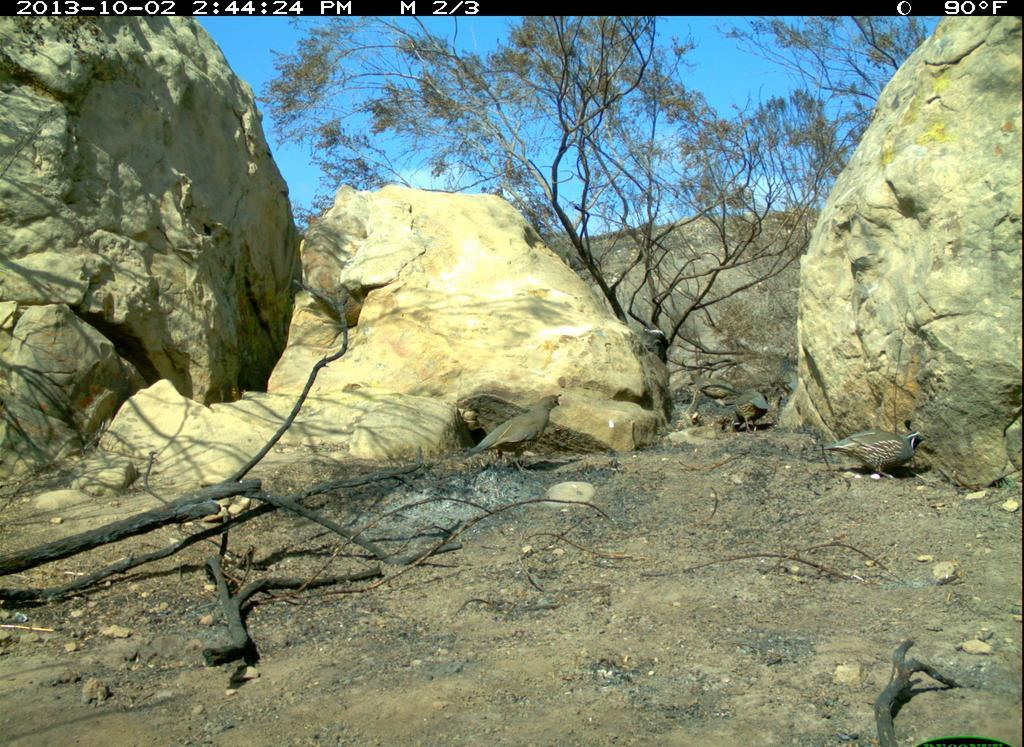bird: (461, 392, 564, 475), (829, 425, 935, 488), (733, 389, 773, 437), (688, 371, 745, 400), (775, 350, 803, 397)
